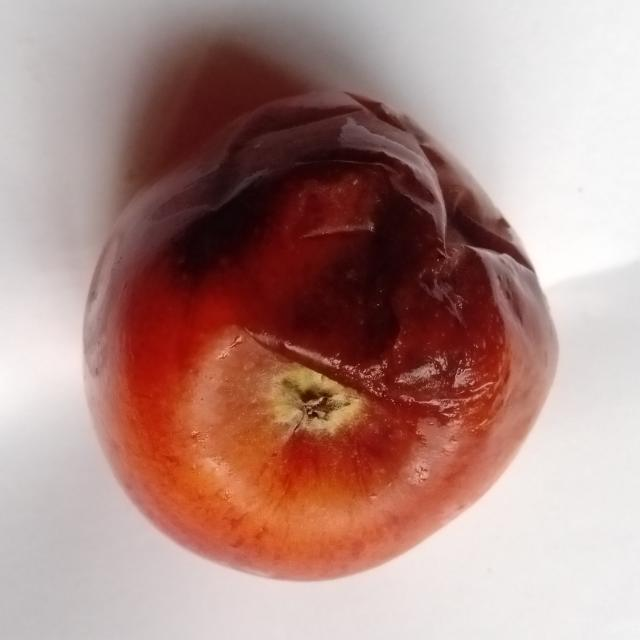apple: (85, 94, 556, 579)
